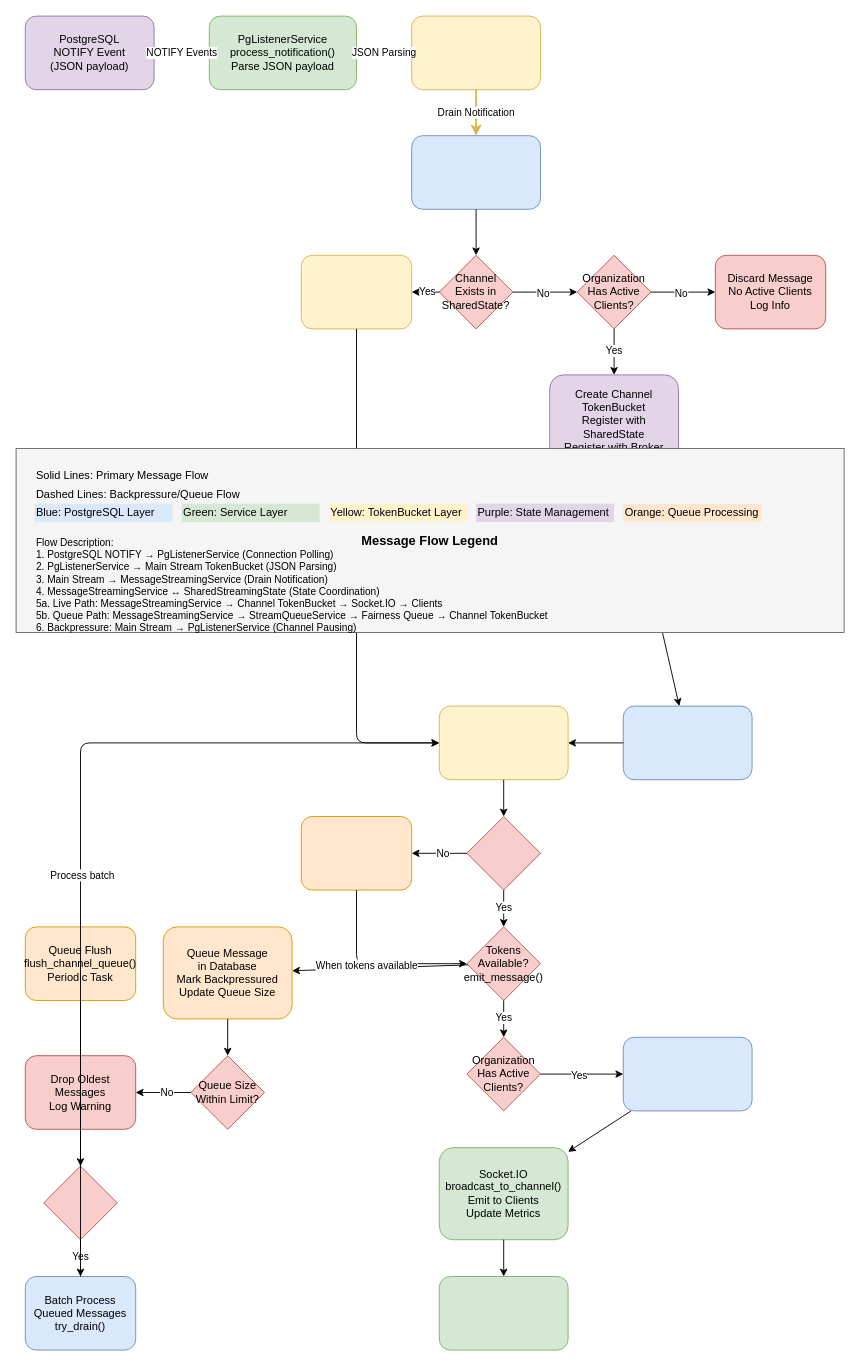
This 860x1366 diagram has some shape labels left out. The shapes that lost their labels are listed below. From the top down, each one's centre as x and y in pixels, then its label:
At point (475, 52): "Main Stream TokenBucket receive_message()".
At point (475, 172): "BrokerService spawn_main_pipe_routing_task() Extract event_name".
At point (356, 291): "Get Channel TokenBucket from SharedState".
At point (503, 742): "Channel TokenBucket Process Message".
At point (687, 742): "Load Channel Configuration (capacity, rate_limit)".
At point (356, 853): "Buffer Message in TokenBucket (Unlimited Buffer)".
At point (503, 853): "Check Bucket Capacity Available?".
At point (687, 1073): "Check Client Connections in Socket.IO".
At point (80, 1202): "Flush Conditions Met? (time/size/tokens)".
At point (503, 1313): "Message Delivered Successfully".
